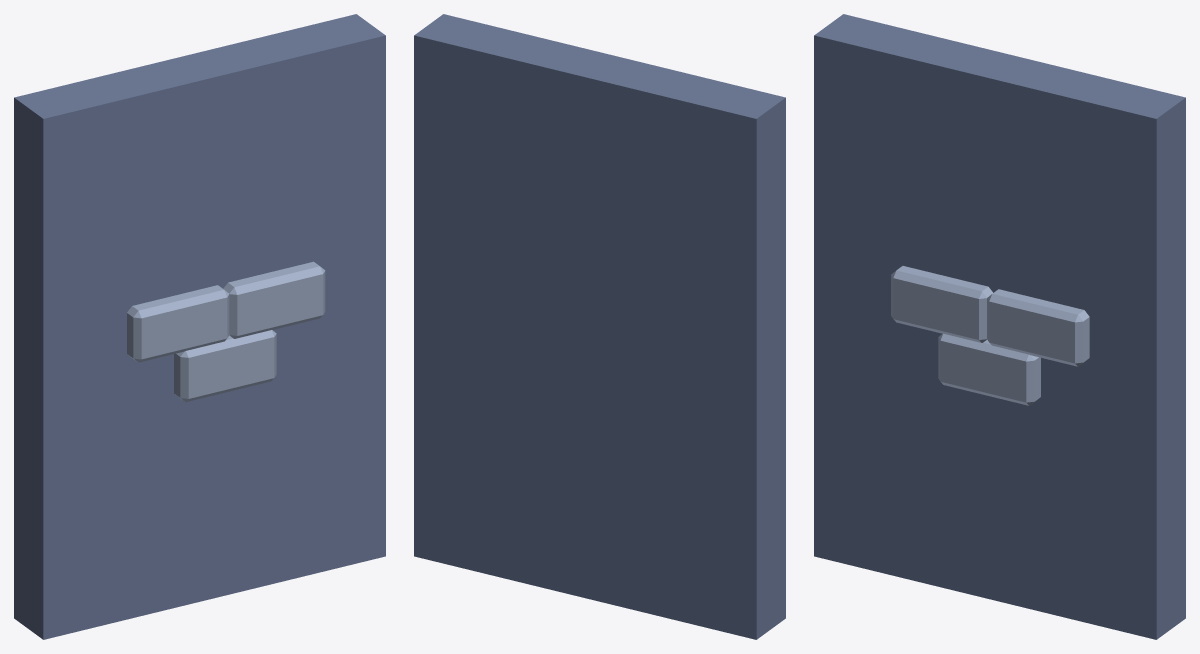
The model's file is muro simple 3.fbx.
3 views of the same model, side by side, from view 1: azimuth 30°, elevation 25°; view 2: azimuth 150°, elevation 25°; view 3: azimuth 330°, elevation 25° (orthographic).
Parts seen in each view (by area): view 1: smooth wall.002; view 2: smooth wall.002; view 3: smooth wall.002.
Boxes of the visible parts, x1,y1,x2,y2 form: smooth wall.002: [14, 14, 385, 639]; smooth wall.002: [414, 14, 785, 639]; smooth wall.002: [814, 14, 1185, 639].
Size of the model in its own units: 211 by 306 by 41.29.
